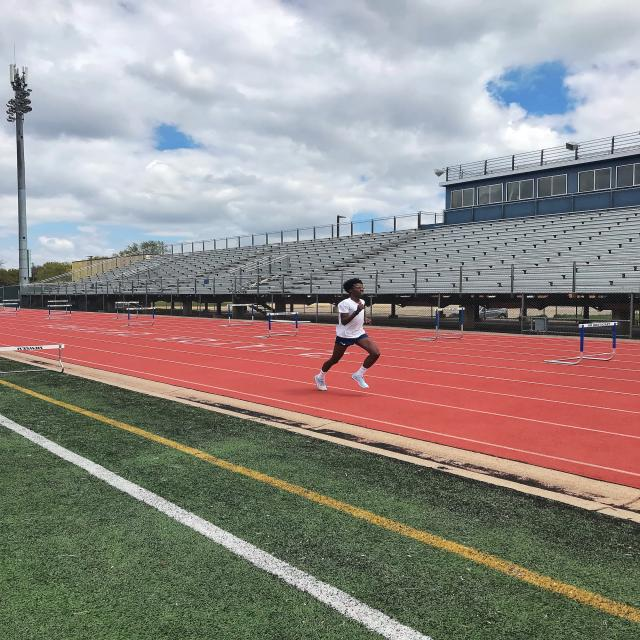adult: (314, 278, 381, 392)
